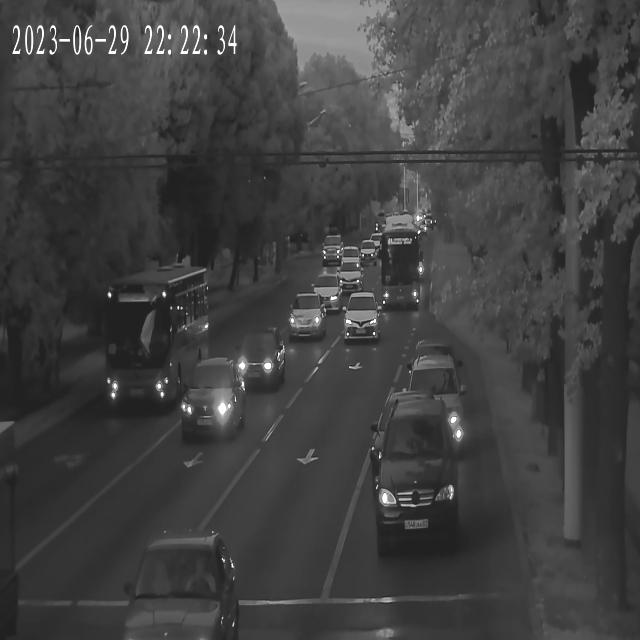Bus: (100, 270, 212, 430), (369, 213, 424, 312)
Car: (370, 399, 462, 545), (128, 532, 242, 640), (170, 356, 246, 441), (388, 389, 464, 467), (398, 358, 462, 410), (232, 334, 285, 393), (284, 292, 328, 341), (342, 292, 380, 341), (410, 339, 456, 377), (307, 273, 344, 313), (320, 237, 344, 263), (338, 264, 364, 286), (340, 246, 364, 269), (356, 240, 378, 264)
